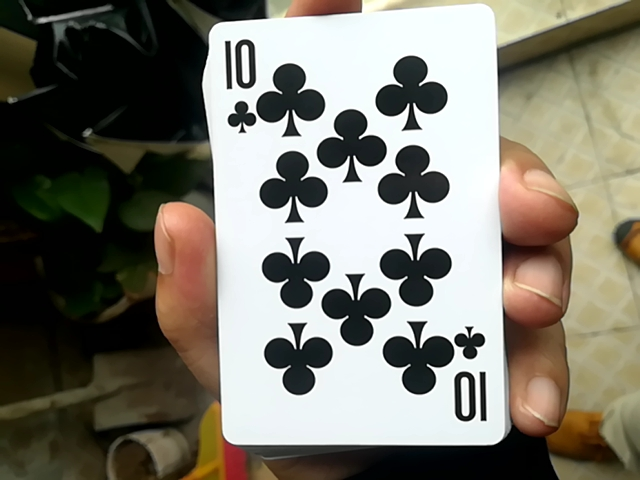mh 10: (208, 0, 499, 437)
